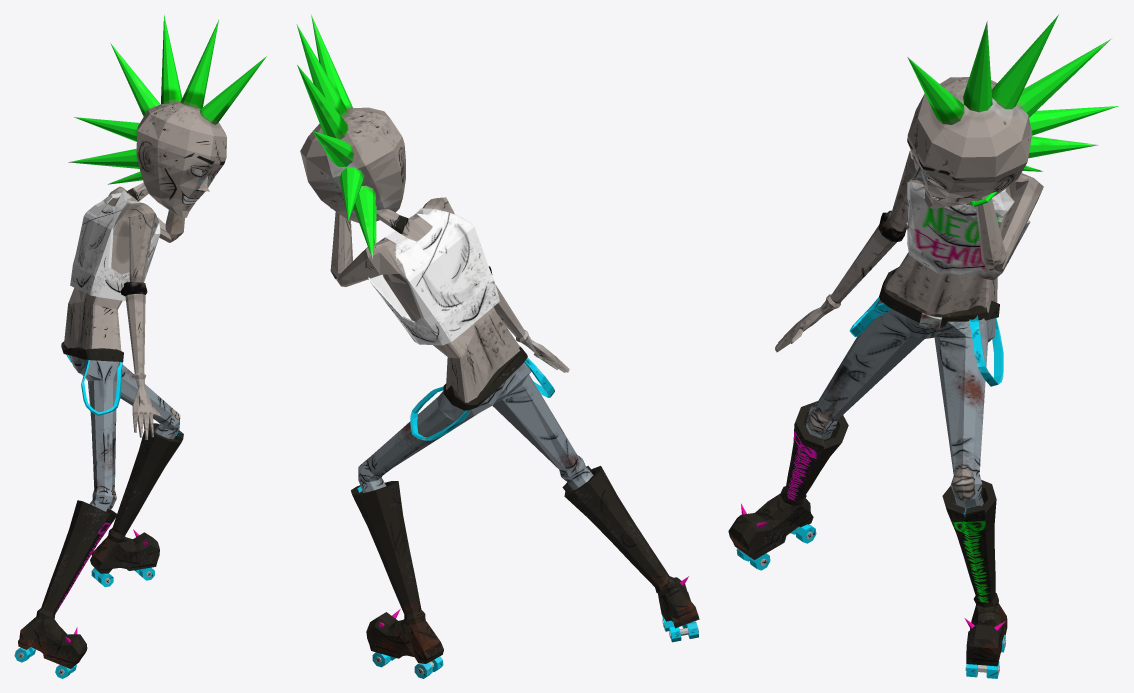
The model's file is punkAnimation_000074.obj.
3 renders of one model, left to right at view 1: azimuth 30°, elevation 25°; view 2: azimuth 150°, elevation 25°; view 3: azimuth 270°, elevation 25°, orthographic. The views are drawn at different scales.
Parts seen in each view (by area): view 1: Cube.004_Cube.003; view 2: Cube.004_Cube.003; view 3: Cube.004_Cube.003.
Boxes of the visible parts, box(x1,y1,x2,y2) form: Cube.004_Cube.003: box(14, 14, 266, 678); Cube.004_Cube.003: box(296, 15, 699, 678); Cube.004_Cube.003: box(728, 14, 1118, 678).
Bounding box in the file's own units: 3.78 × 6.59 × 3.31.
